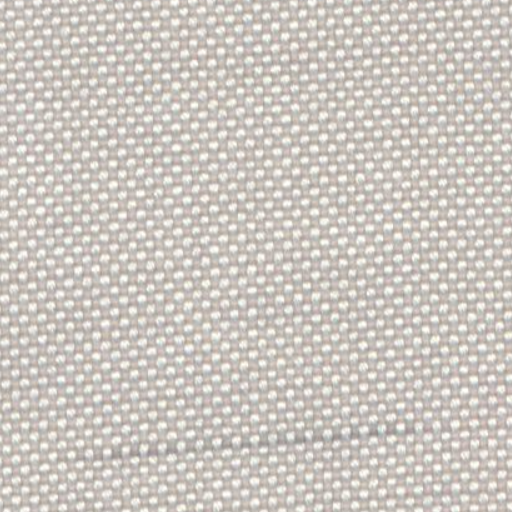WuZi: (88, 414, 405, 462)
